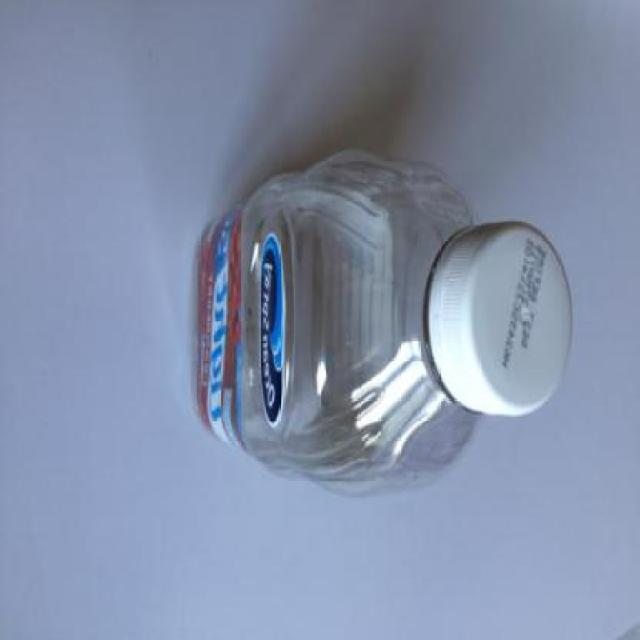PLASTIC: (195, 148, 577, 488), (424, 220, 576, 417), (198, 191, 248, 458)
